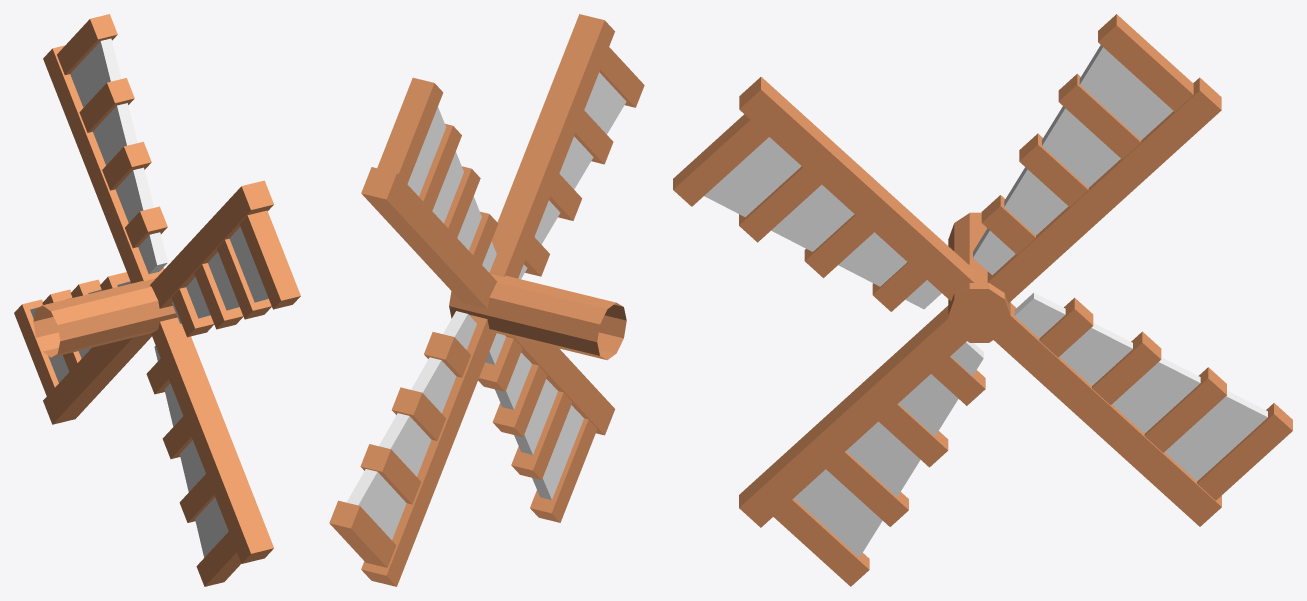
Rendered from Windmill_Rotate.fbx.
3 views of the same model, side by side, from view 1: azimuth 30°, elevation 25°; view 2: azimuth 150°, elevation 25°; view 3: azimuth 270°, elevation 25° (orthographic). The views are drawn at different scales.
Parts seen in each view (by area): view 1: Windmill_Rotate; view 2: Windmill_Rotate; view 3: Windmill_Rotate.
Boxes of the visible parts, left/top/right/bottom form: Windmill_Rotate: left=14, top=14, right=300, bottom=586; Windmill_Rotate: left=329, top=14, right=644, bottom=586; Windmill_Rotate: left=673, top=14, right=1292, bottom=586.
Bounding box in the file's own units: 113 × 388 × 388.
